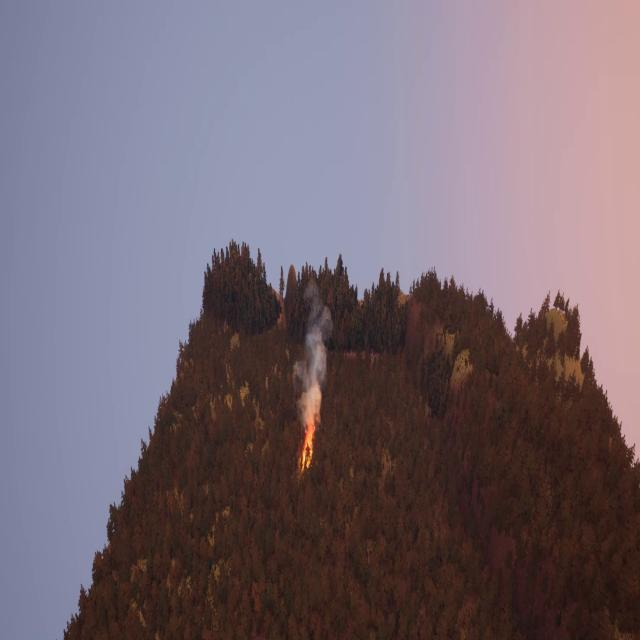fire: (302, 423, 314, 473)
smoke: (300, 280, 332, 418)
